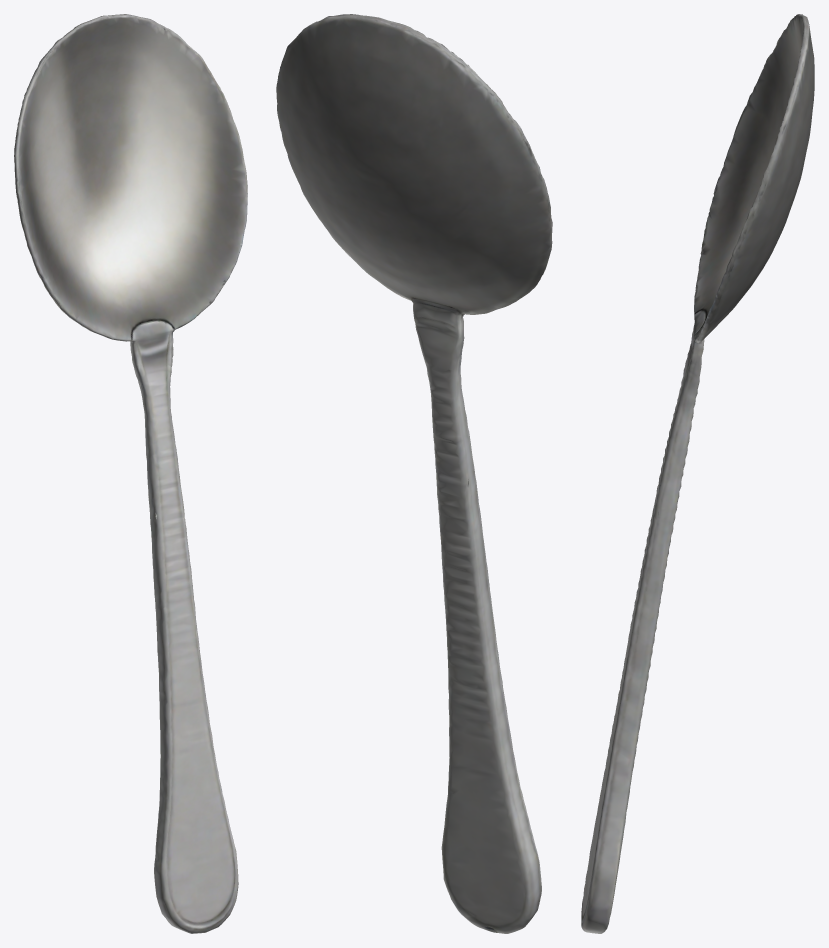
File: STEEL_SPOON.fbx
3 renders of one model, left to right at view 1: azimuth 30°, elevation 25°; view 2: azimuth 150°, elevation 25°; view 3: azimuth 270°, elevation 25°, orthographic. The views are drawn at different scales.
Parts seen in each view (by area): view 1: Silver_Spoon_on_Grey__0131234618_texture; view 2: Silver_Spoon_on_Grey__0131234618_texture; view 3: Silver_Spoon_on_Grey__0131234618_texture.
Boxes of the visible parts, bbox=[...] form: Silver_Spoon_on_Grey__0131234618_texture: bbox=[14, 14, 247, 933]; Silver_Spoon_on_Grey__0131234618_texture: bbox=[276, 14, 552, 933]; Silver_Spoon_on_Grey__0131234618_texture: bbox=[581, 14, 814, 933].
Bounding box in the file's own units: 55.65 × 200 × 46.81.
Materials: 1 (1 with a texture image).
